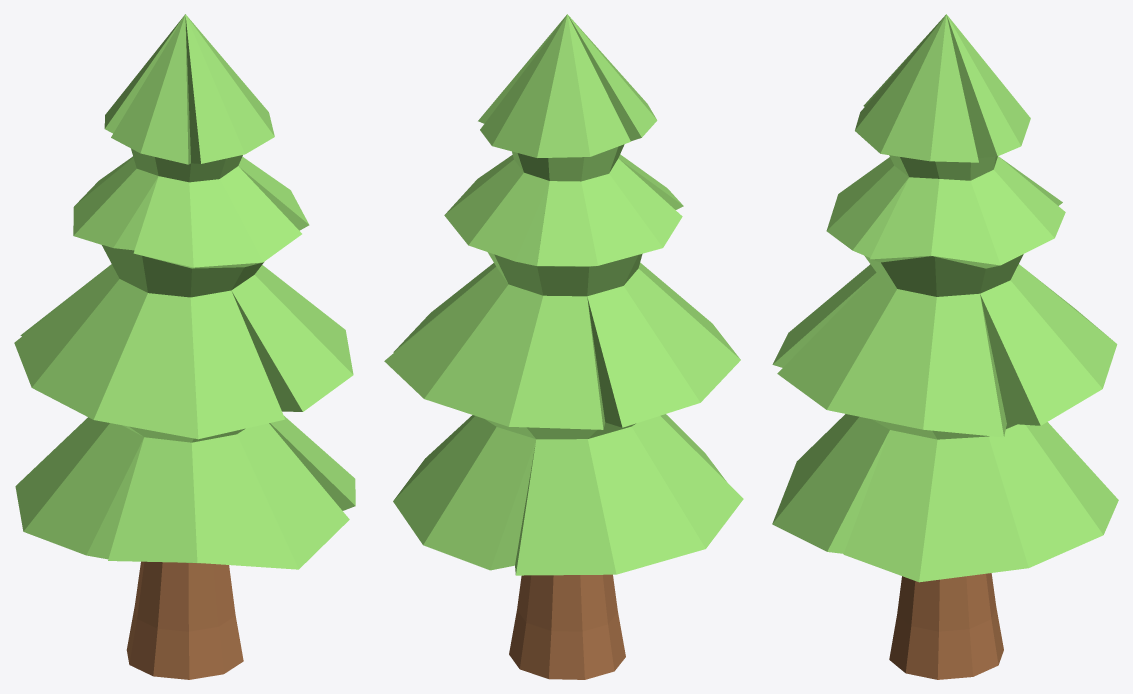
Rendered from Tree4.1.fbx.
3 views of the same model, side by side, from view 1: azimuth 30°, elevation 25°; view 2: azimuth 150°, elevation 25°; view 3: azimuth 270°, elevation 25° (orthographic).
Visible parts, largest first — view 1: Tree4.1; view 2: Tree4.1; view 3: Tree4.1.
Boxes of the visible parts, x1=… form: Tree4.1: x1=14, y1=14, x2=355, y2=679; Tree4.1: x1=384, y1=14, x2=743, y2=679; Tree4.1: x1=772, y1=14, x2=1118, y2=679.
Bounding box in the file's own units: 260 × 520 × 255.
